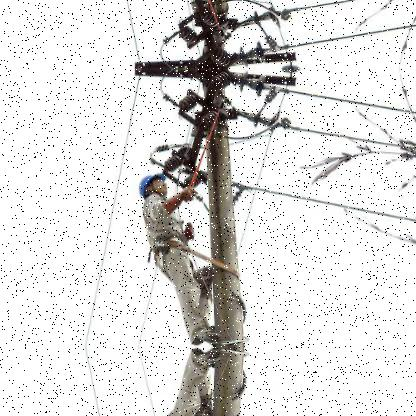Helmet: (132, 166, 174, 202)
